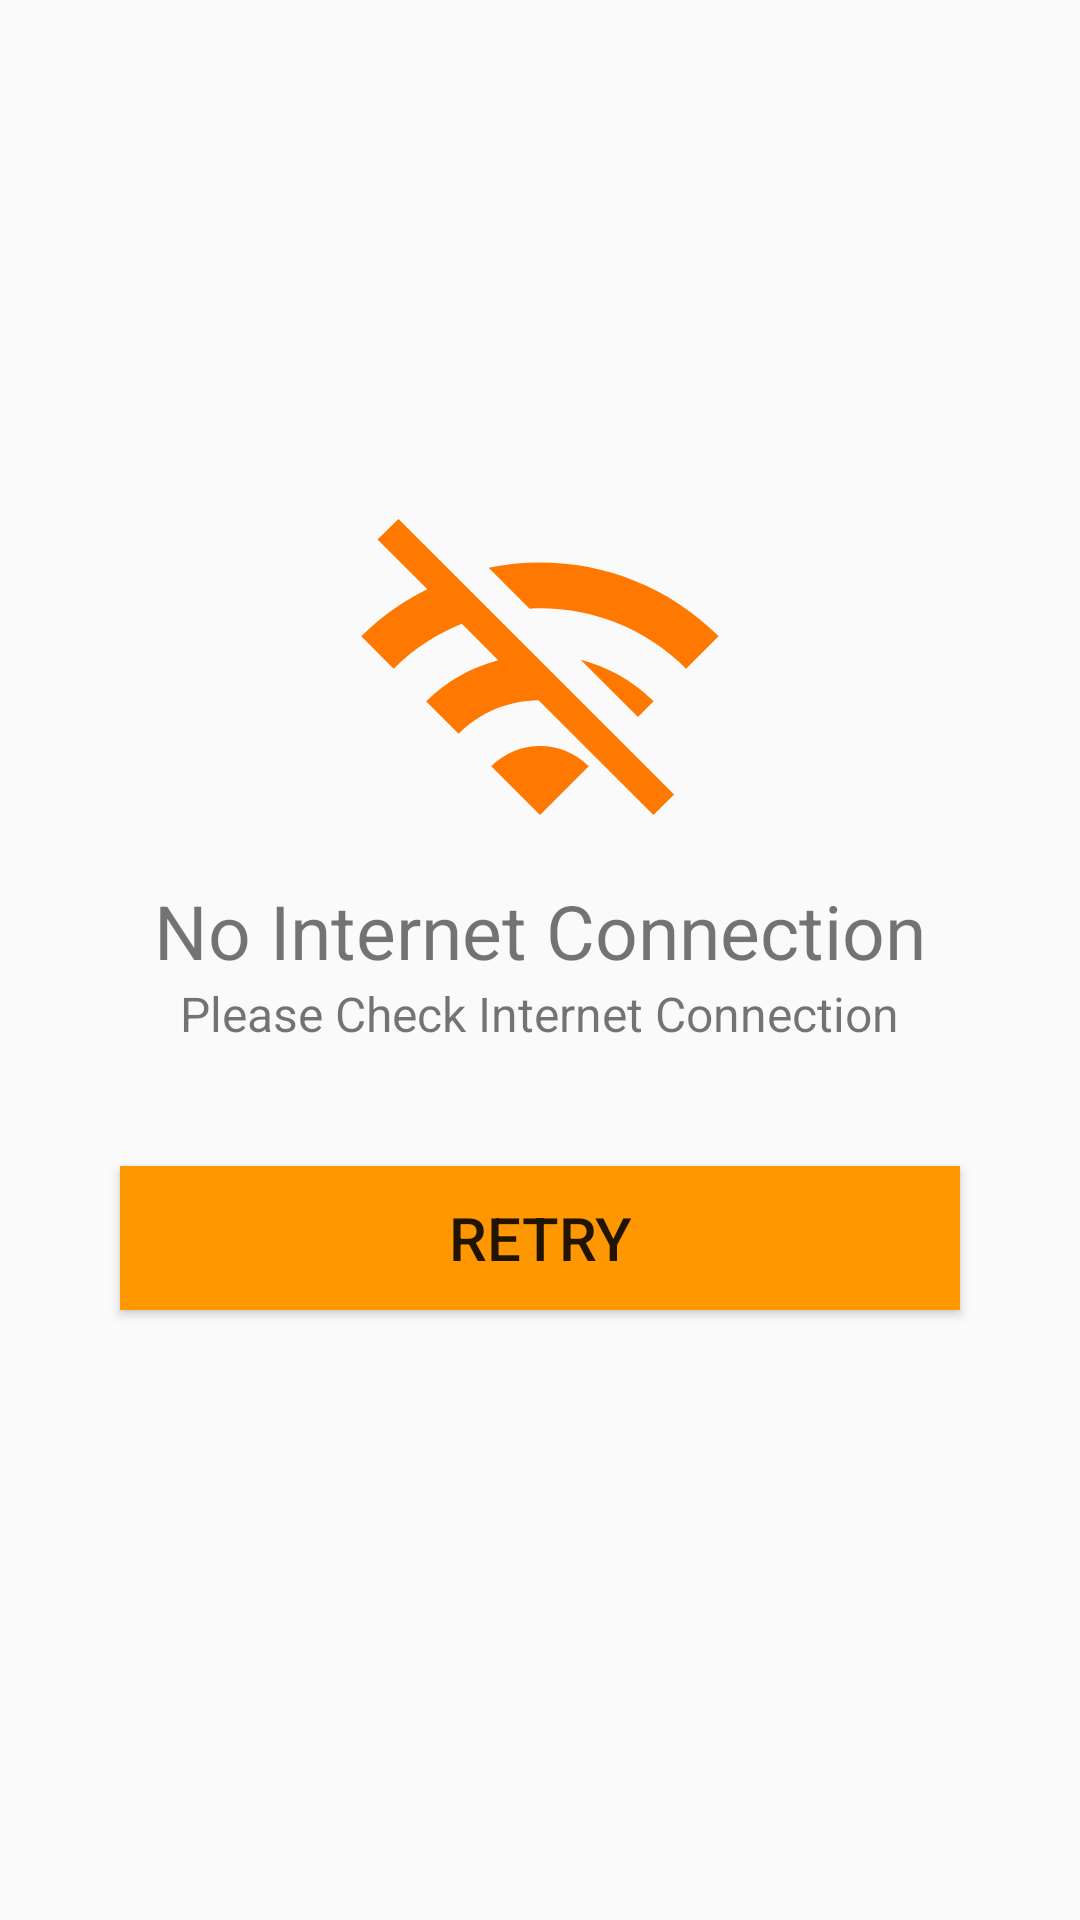

Icon click points for this 1080×1920 phone screenshot, format point (x, y):
wifi off: point (540, 667)
